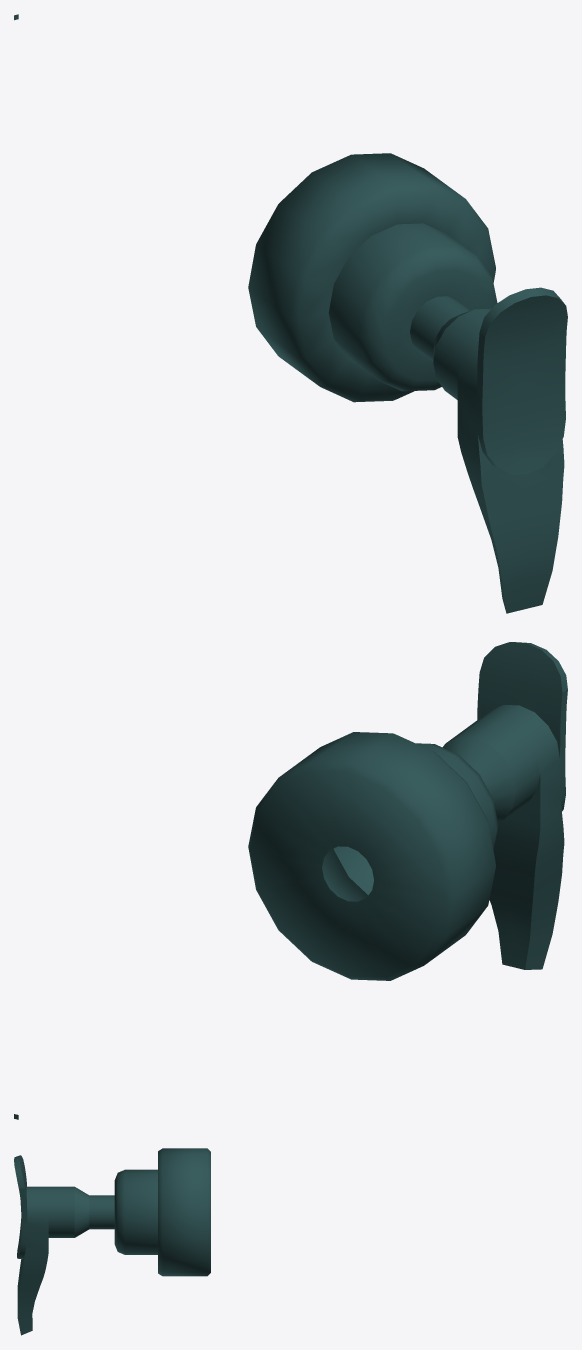
The model's file is MeshSoapBottle_11_0_GeomSubset_1.obj.
3 views of the same model, one above another, from view 1: azimuth 30°, elevation 25°; view 2: azimuth 150°, elevation 25°; view 3: azimuth 270°, elevation 25° (orthographic). The views are drawn at different scales.
Visible parts, largest first — view 1: MeshSoapBottle_11_0_GeomSubset_1; view 2: MeshSoapBottle_11_0_GeomSubset_1; view 3: MeshSoapBottle_11_0_GeomSubset_1.
Boxes of the visible parts, <box> form: MeshSoapBottle_11_0_GeomSubset_1: <box>14,14,567,613</box>; MeshSoapBottle_11_0_GeomSubset_1: <box>14,642,567,1119</box>; MeshSoapBottle_11_0_GeomSubset_1: <box>14,1148,210,1335</box>.
Size of the model in its own units: 0.0439 by 0.0668 by 0.1901.
